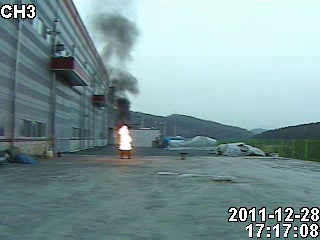fire: (114, 124, 132, 152)
smoke: (95, 2, 144, 117)
